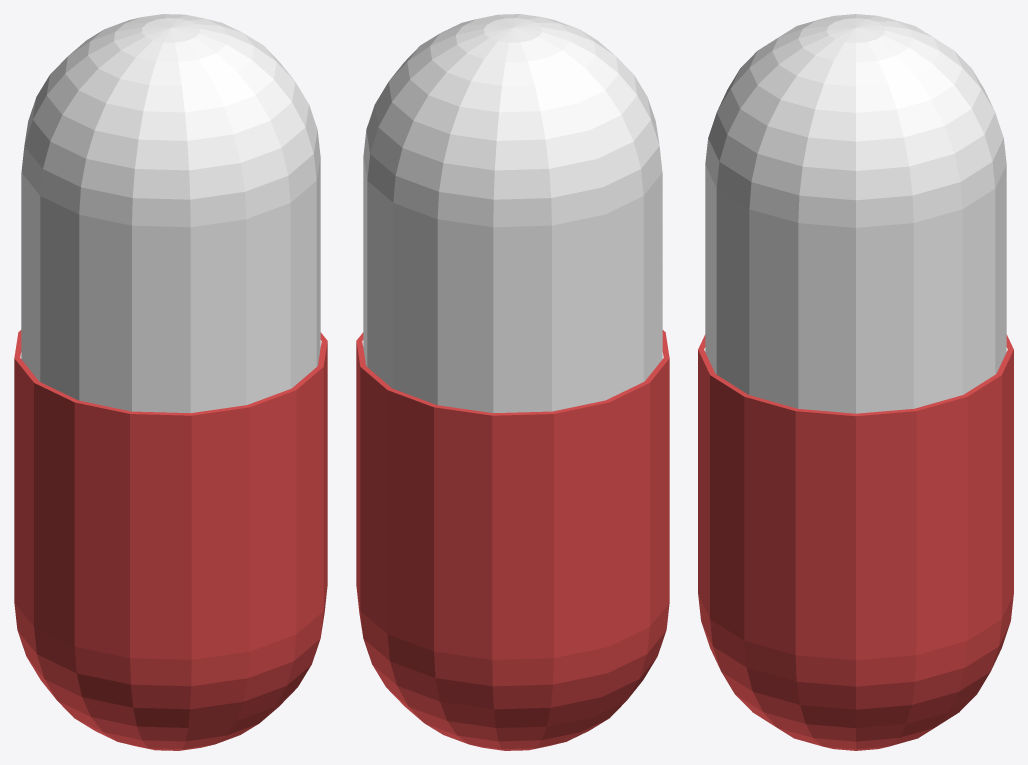
File: Pill.glb
The picture shows the model from 3 angles, left to right: view 1: azimuth 30°, elevation 25°; view 2: azimuth 150°, elevation 25°; view 3: azimuth 270°, elevation 25°; orthographic projection.
Visible parts, largest first — view 1: Pill, Pill_2; view 2: Pill, Pill_2; view 3: Pill, Pill_2.
Part boxes in pixels (left/top/right/bottom): Pill: left=21, top=14, right=320, bottom=413; Pill_2: left=14, top=330, right=327, bottom=750; Pill: left=363, top=14, right=662, bottom=413; Pill_2: left=356, top=330, right=669, bottom=750; Pill: left=705, top=14, right=1006, bottom=413; Pill_2: left=698, top=334, right=1013, bottom=750.
Size of the model in its own units: 109 by 270 by 109.
